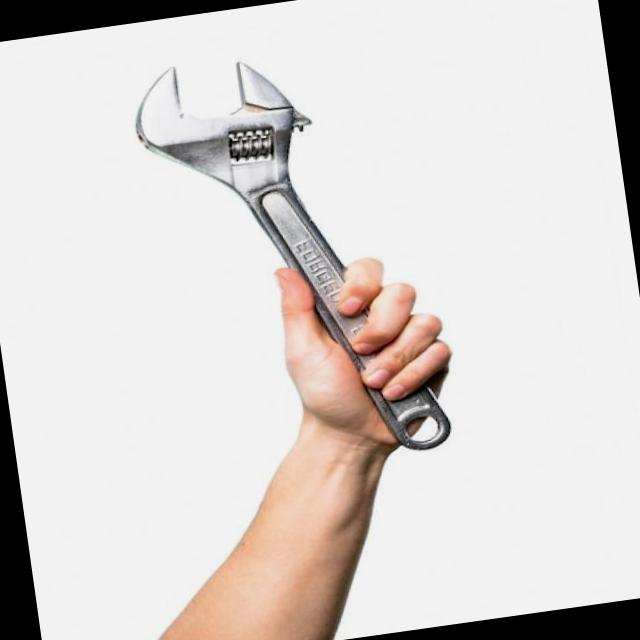wrench: (136, 62, 367, 369), (369, 386, 450, 449)
